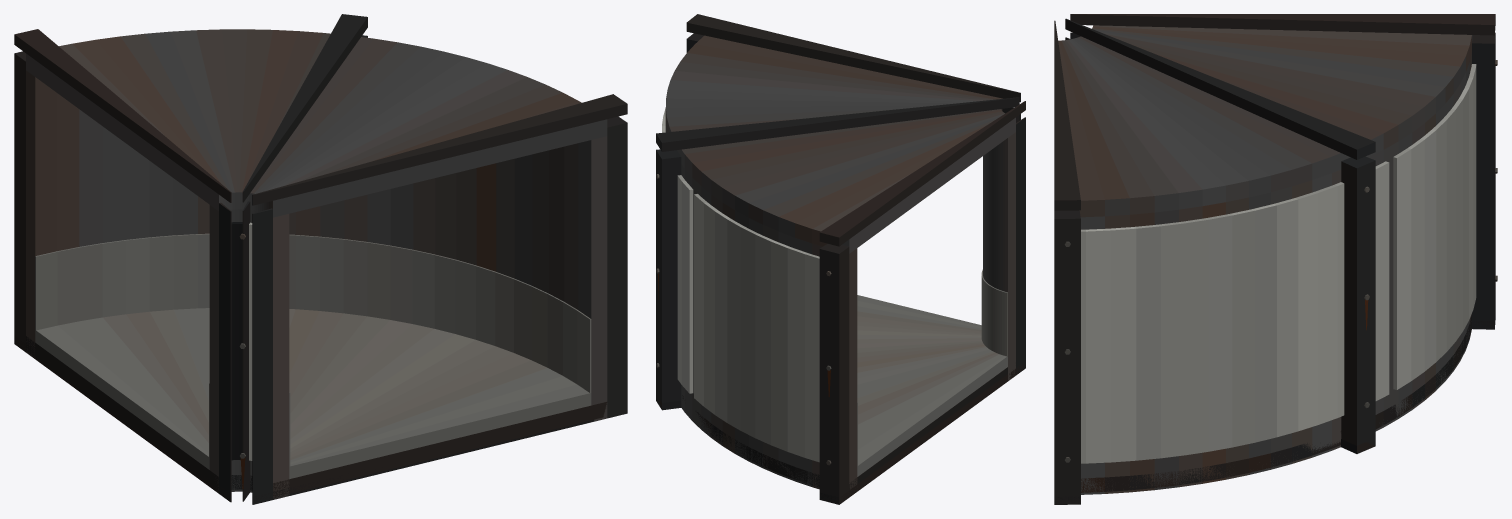
The model's file is chute_h_turn_left.glb.
3 renders of one model, left to right at view 1: azimuth 30°, elevation 25°; view 2: azimuth 150°, elevation 25°; view 3: azimuth 270°, elevation 25°, orthographic. The views are drawn at different scales.
Parts seen in each view (by area): view 1: Frame; view 2: Frame; view 3: Frame.
Part boxes in pixels (x1,y1,x2,y2): Frame: (14,14,627,504); Frame: (656,14,1025,504); Frame: (1054,14,1497,504).
Size of the model in its own units: 1.94 by 1.47 by 1.94.
